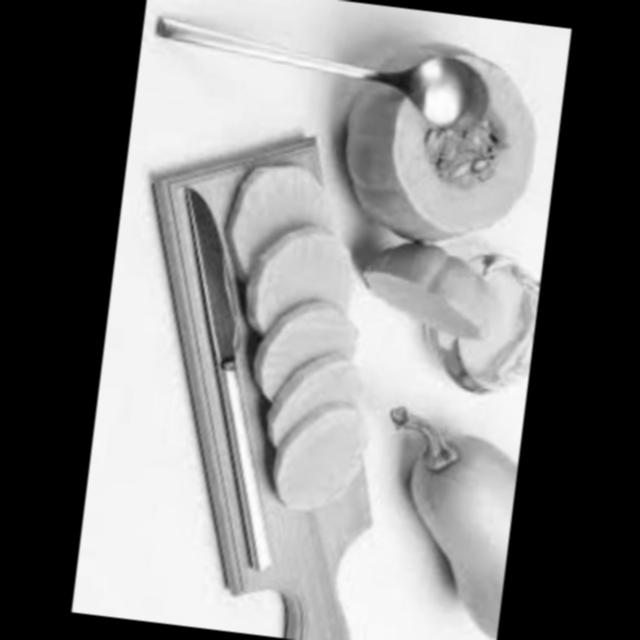bi ngo: (332, 36, 548, 260), (360, 394, 525, 639), (346, 232, 499, 346), (224, 222, 366, 344), (222, 152, 348, 284), (241, 296, 367, 415), (256, 408, 377, 528), (253, 345, 374, 455)
